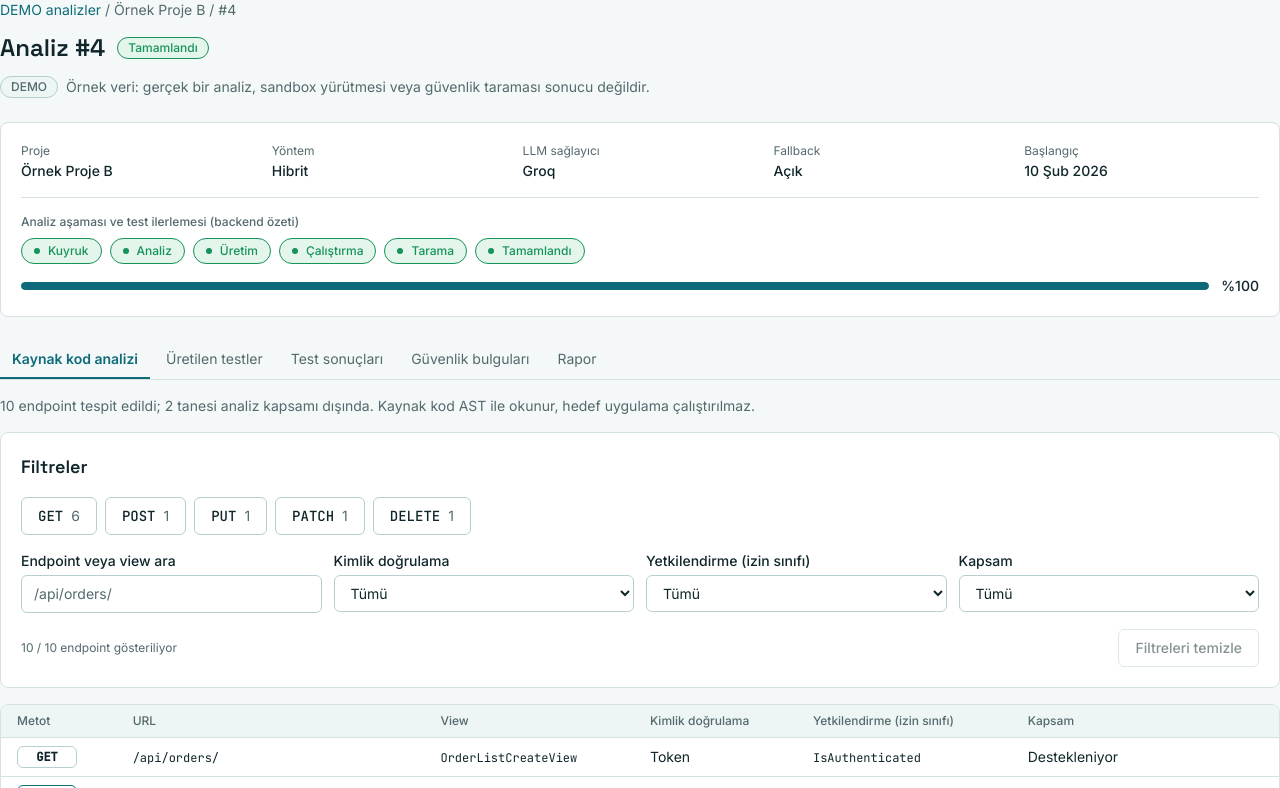
kaynak kod analizi › metot filtresi, arama, kimlik doğrulama filtresi ve temizleme
Expected: the text "10 / 10 endpoint gösteriliyor" is shown, [21,640,177,656]
Click the button "DELETE 1" at (422, 516), box [373,497,471,535]
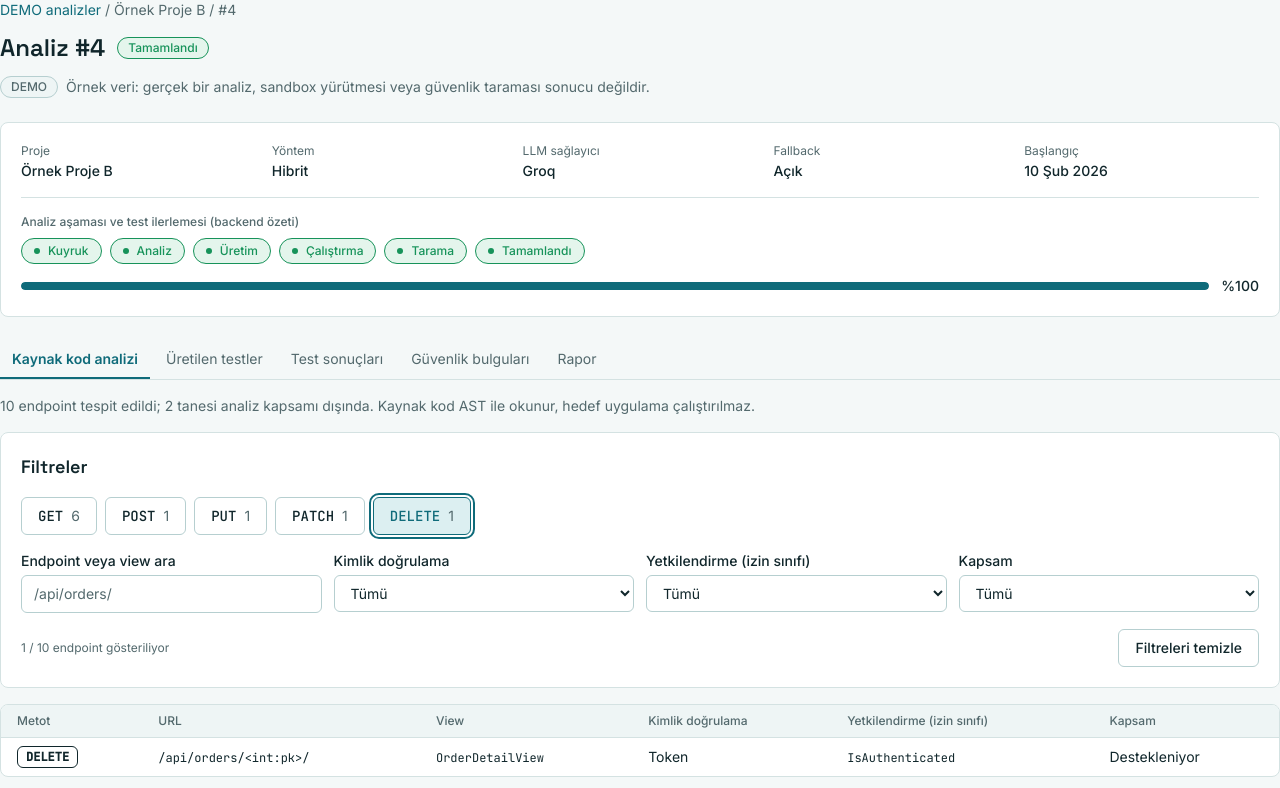
Now the text "1 / 10 endpoint gösteriliyor" is shown, box [21,640,169,656]
Click the button "GET 6" at (59, 516), box [21,497,97,535]
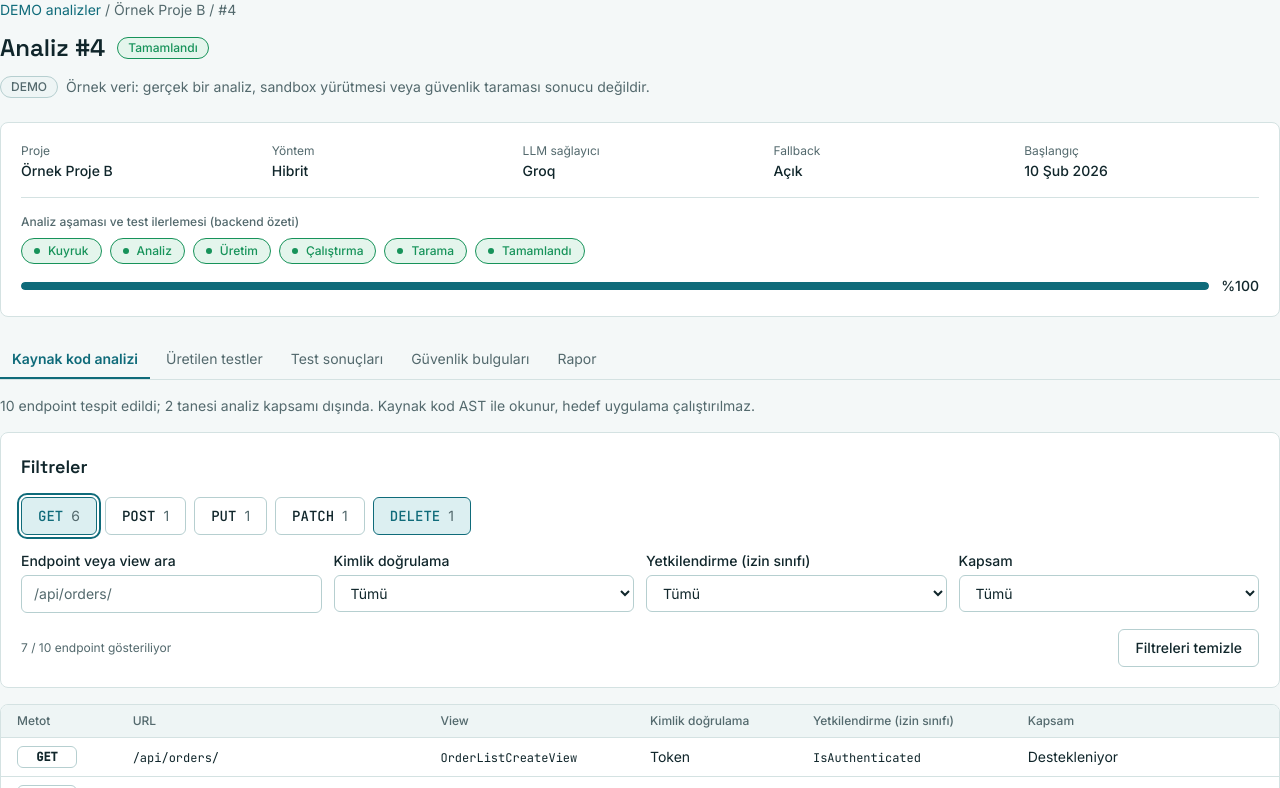
Now the text "7 / 10 endpoint gösteriliyor" is shown, box [21,640,171,656]
Click the button "Filtreleri temizle" at (1189, 648), box [1118,629,1259,667]
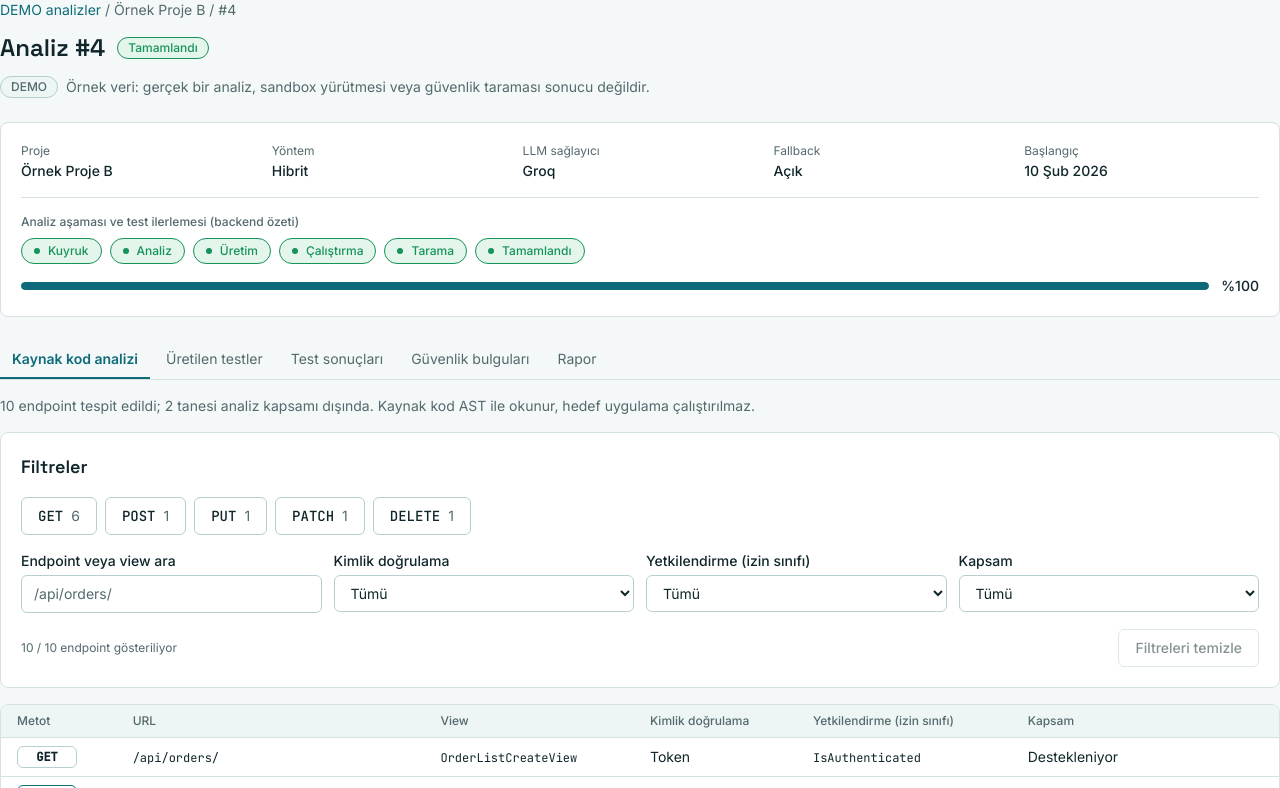
Select "Belirlenemedi" in the dropdown labelled "Kimlik doğrulama" at (484, 594), box [334,575,634,612]
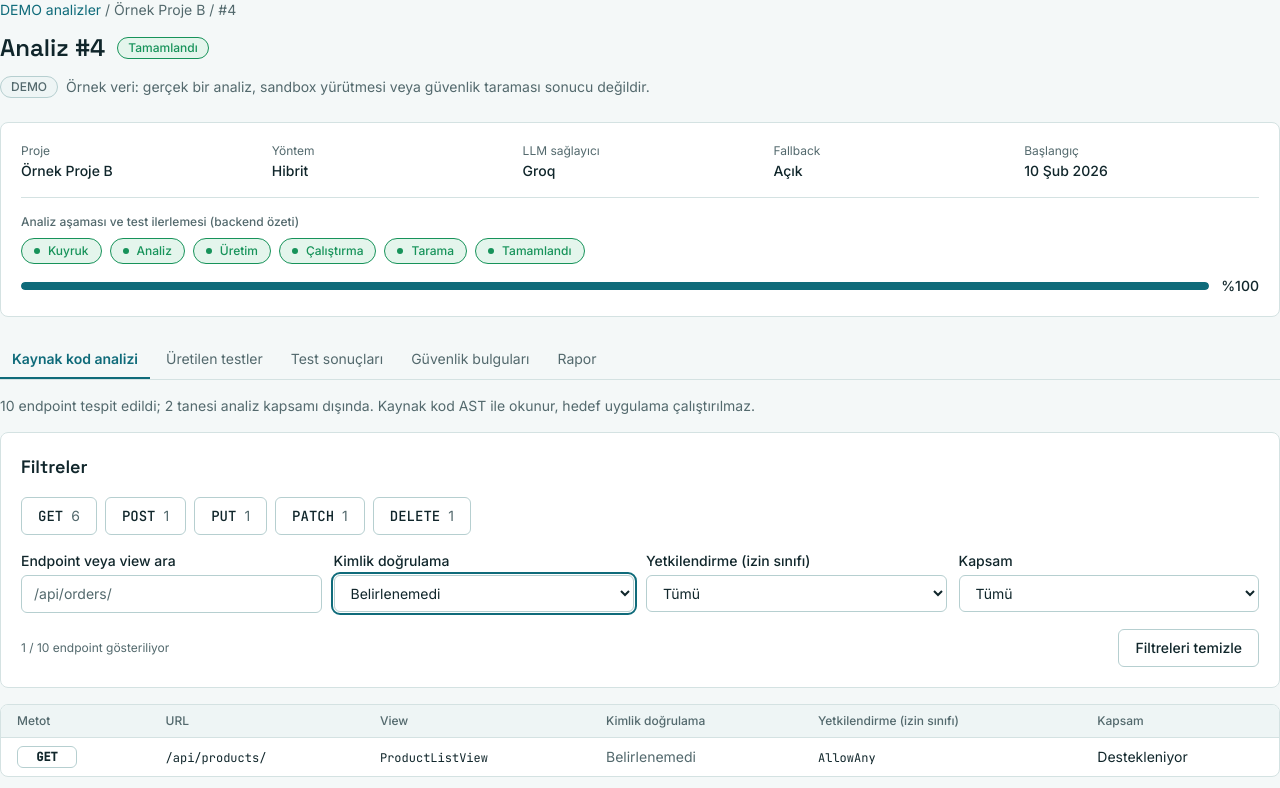
Now the text "/api/products/" is shown, box [166,750,266,766]
Now the text "1 / 10 endpoint gösteriliyor" is shown, box [21,640,169,656]
